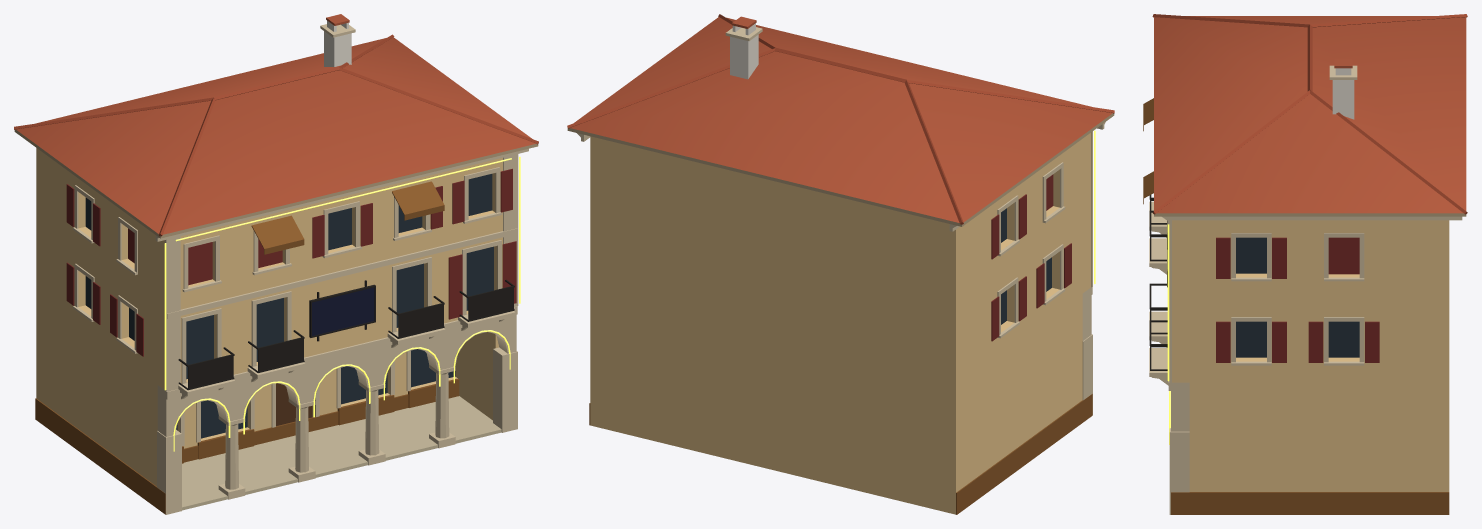
The picture shows the model from 3 angles, left to right: view 1: azimuth 30°, elevation 25°; view 2: azimuth 150°, elevation 25°; view 3: azimuth 270°, elevation 25°; orthographic projection. The views are drawn at different scales.
Parts seen in each view (by area): view 1: agents.lod1; view 2: agents.lod1; view 3: agents.lod1.
Part boxes in pixels (x1,y1,x2,y2): agents.lod1: [14, 14, 538, 514]; agents.lod1: [567, 14, 1114, 514]; agents.lod1: [1143, 14, 1467, 514].
Bounding box in the file's own units: 15.2 × 14.31 × 10.5.
